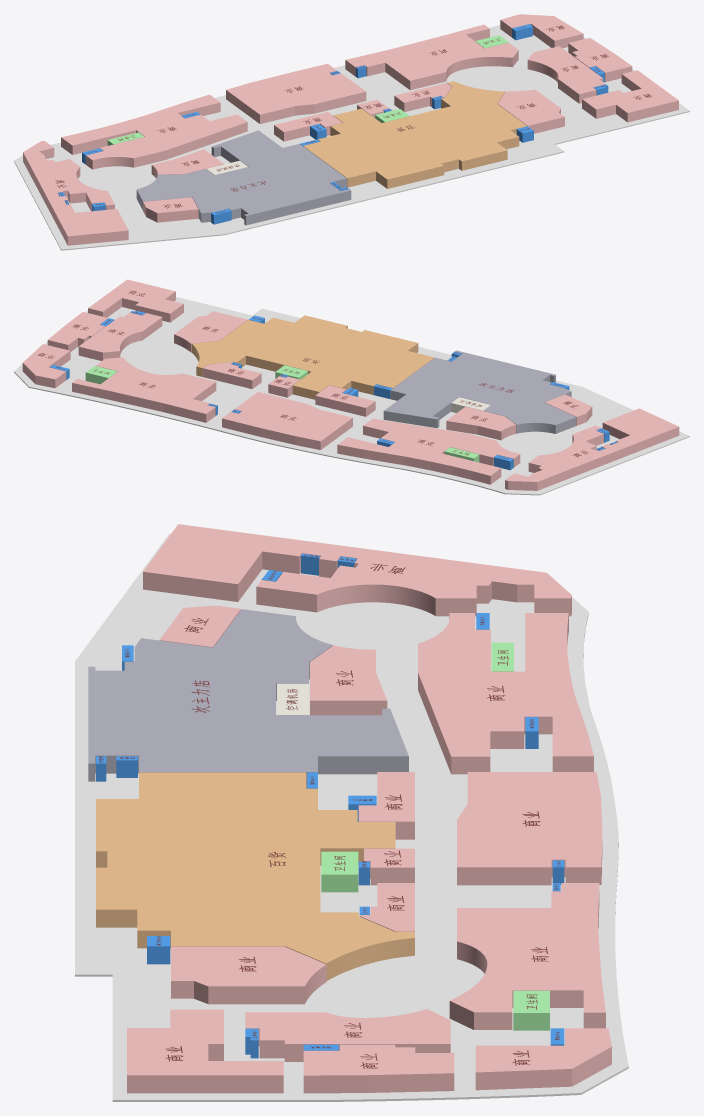
Rendered from 广州万达_1F.fbx.
The picture shows the model from 3 angles, top to bottom: view 1: azimuth 30°, elevation 25°; view 2: azimuth 150°, elevation 25°; view 3: azimuth 270°, elevation 25°; orthographic projection. The views are drawn at different scales.
Visible parts, largest first — view 1: 商业, 楼板, 百货, 次主力店, 强弱电间, 卫生间; view 2: 商业, 楼板, 百货, 次主力店, 强弱电间, 卫生间, 设备房; view 3: 商业, 楼板, 百货, 次主力店, 强弱电间, 卫生间, 设备房.
Boxes of the visible parts, x1,y1,x2,y2 form: 商业: (23,14,678,245); 楼板: (14,25,689,250); 百货: (303,81,527,188); 次主力店: (136,130,351,225); 强弱电间: (58,24,608,224); 卫生间: (107,35,508,145); 商业: (22,279,679,490); 楼板: (14,297,689,495); 百货: (192,315,434,399); 次主力店: (383,350,576,433); 强弱电间: (50,311,617,470); 卫生间: (85,365,479,462); 设备房: (451,397,490,412); 商业: (127,524,611,1093); 楼板: (75,533,628,1101); 百货: (96,772,414,980); 次主力店: (88,609,408,788); 强弱电间: (96,553,564,1058); 卫生间: (321,642,549,1030); 设备房: (277,683,308,715).
Bounding box in the file's own units: 984 × 407 × 16.11.
